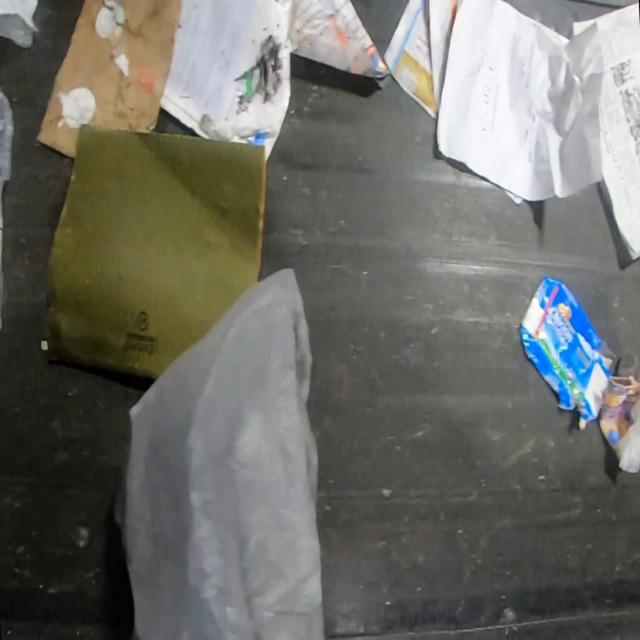cardboard: (42, 123, 268, 381), (37, 0, 182, 161), (516, 277, 617, 432)
rigid_plastic: (0, 90, 13, 305)
soft_plastic: (115, 265, 326, 640)
